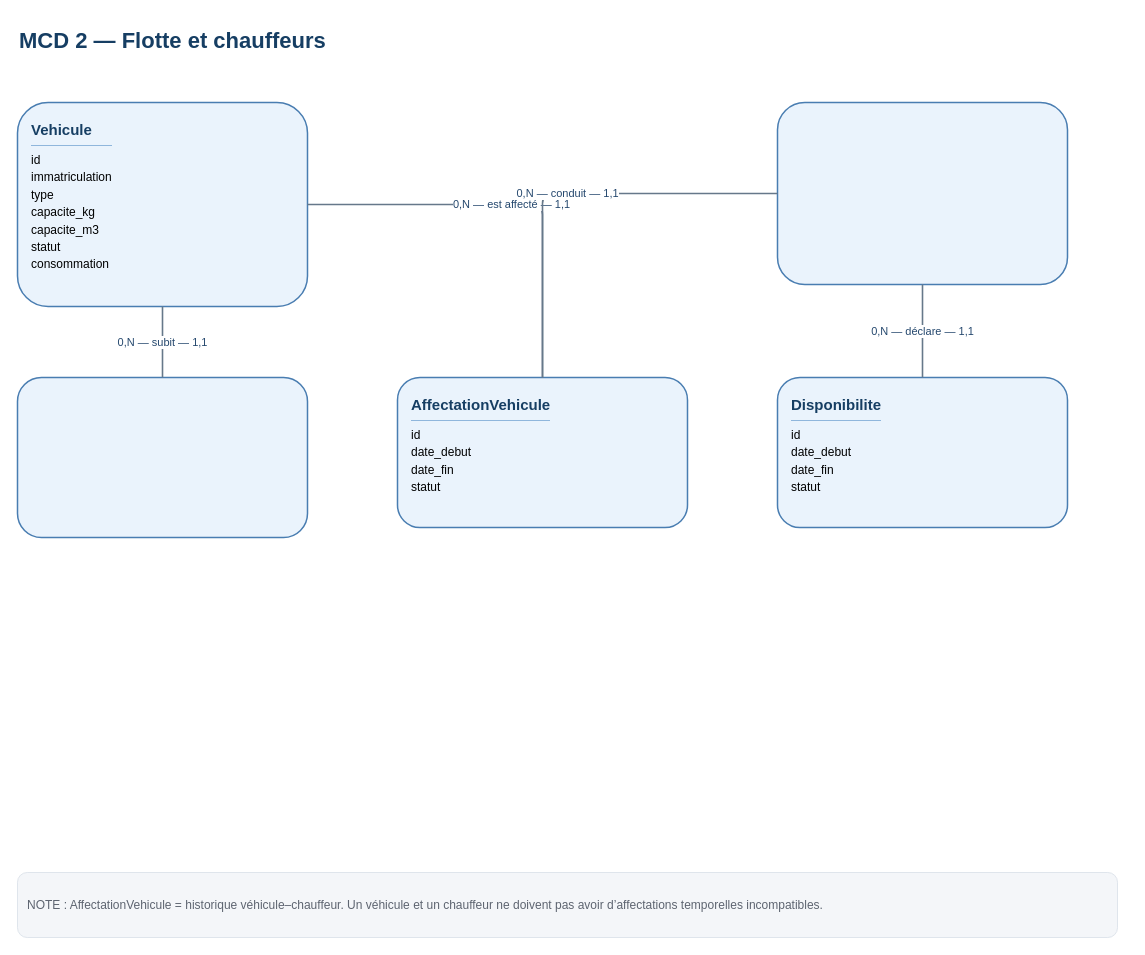
Image size: 1145x955. Some labels were removed from this diagram. Each missing label, with the centre of its shape:
"Chauffeur id keycloak_id nom telephone numero_permis statut" belongs at (x=922, y=193).
"Maintenance id type date_debut date_fin statut" belongs at (x=162, y=457).
